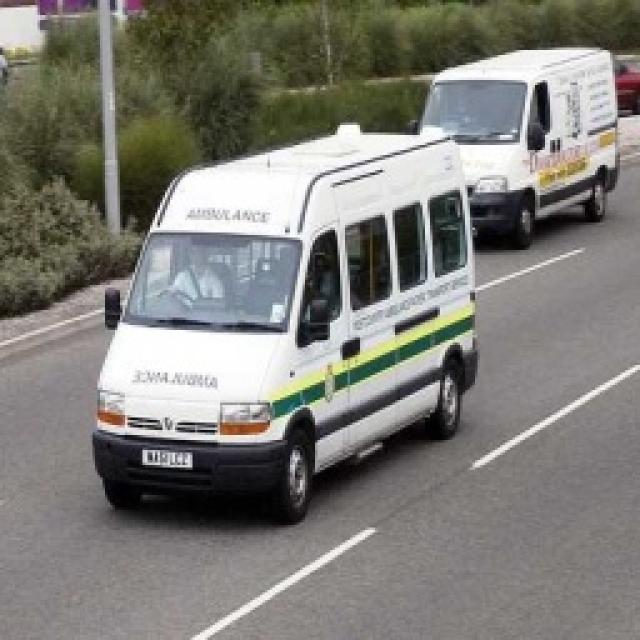ambulance: (95, 122, 477, 522)
